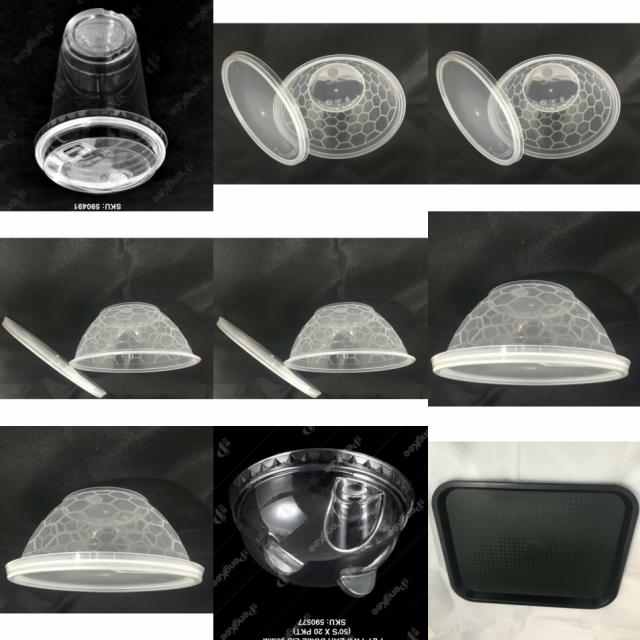plastik: (230, 449, 414, 597), (433, 482, 639, 609), (35, 8, 167, 194), (6, 487, 204, 592), (431, 282, 630, 385), (273, 55, 406, 159), (488, 55, 620, 159), (221, 52, 309, 165), (436, 51, 523, 165), (69, 302, 201, 373), (284, 302, 415, 373), (2, 317, 106, 398), (219, 318, 321, 398)
